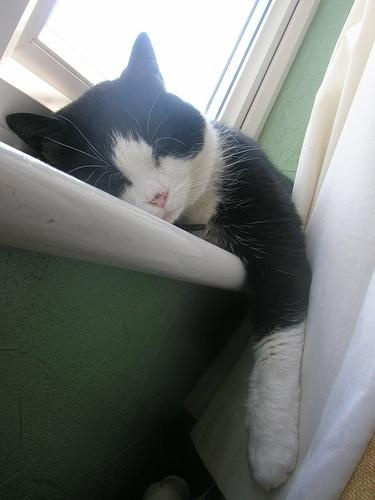cat: (5, 33, 310, 494)
